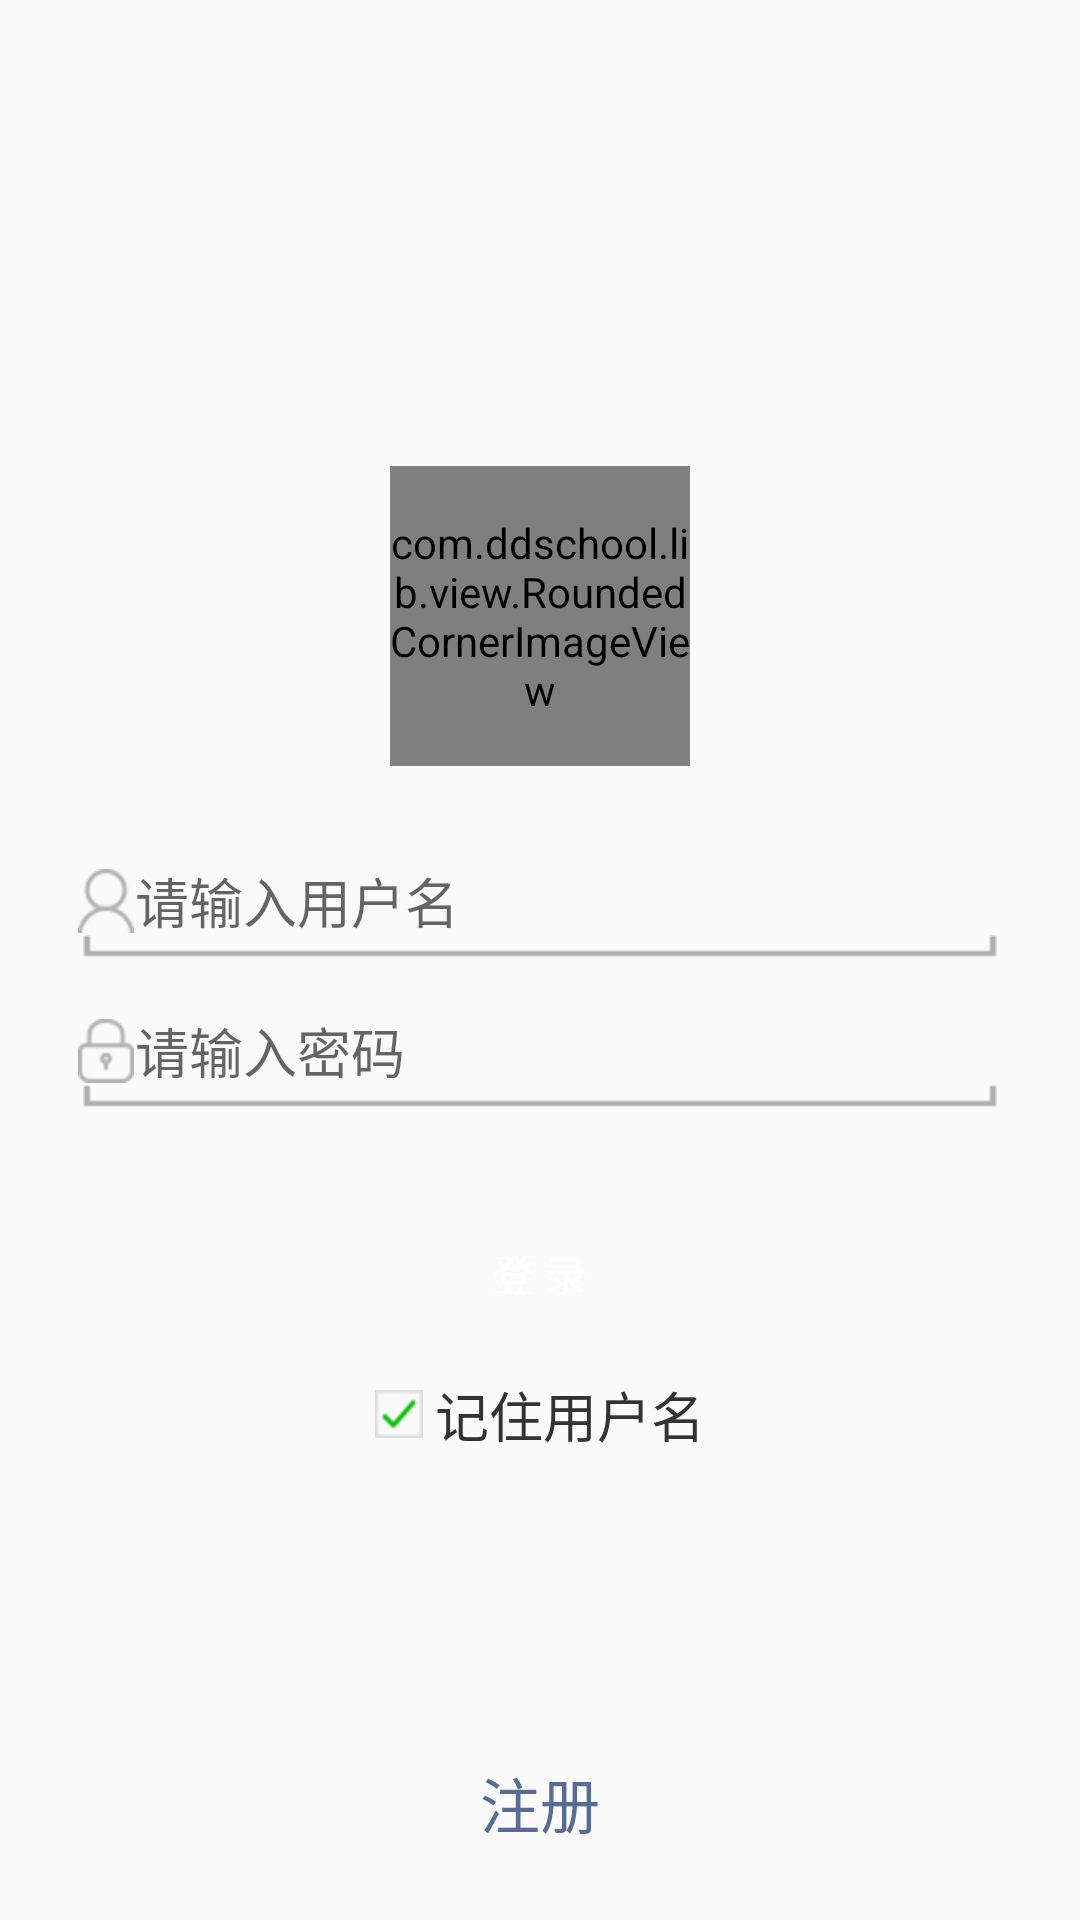

Icons on this 1080 x 1920 Android screen, each with its box as (x1, y1, x2, y2):
login password: (78, 1019, 134, 1083)
login uesr: (78, 869, 134, 933)
